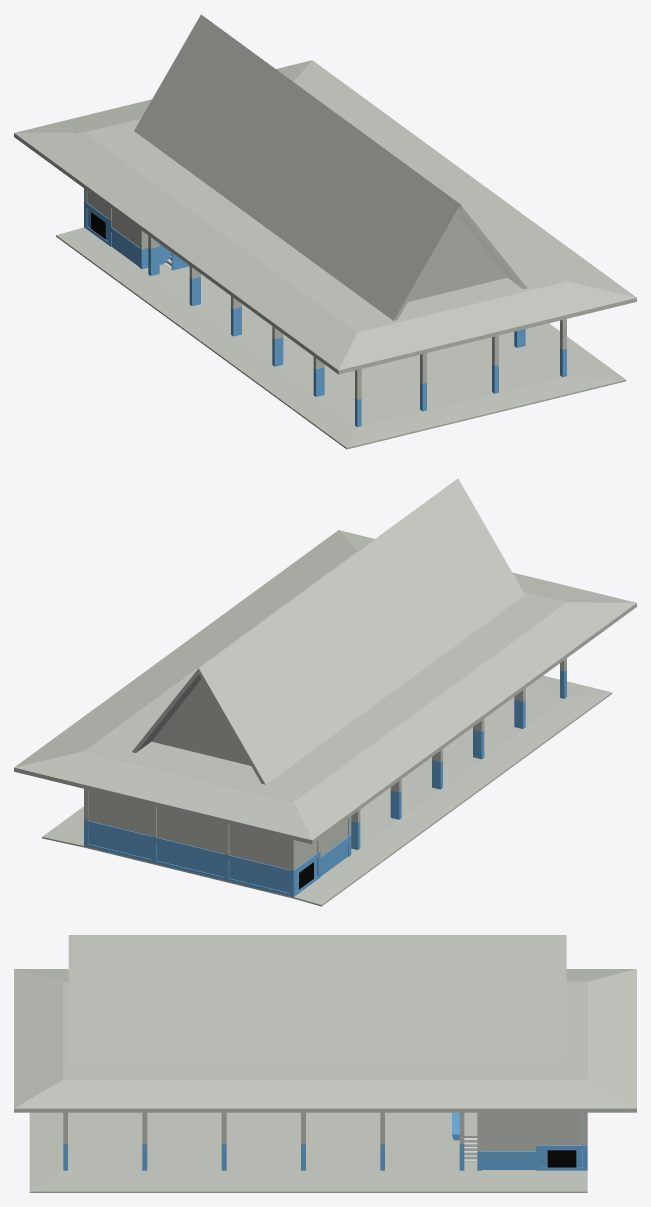
The model's file is SAMOSONE_Building.glb.
3 views of the same model, one above another, from view 1: azimuth 30°, elevation 25°; view 2: azimuth 150°, elevation 25°; view 3: azimuth 270°, elevation 25° (orthographic). The views are drawn at different scales.
Visible parts, largest first — view 1: Plane.002, Cube.004, Cube.003, Pilla.004, wall; view 2: Plane.002, Cube.004, Cube.003, wall, Pilla.004; view 3: Cube.004, Plane.002, Cube.003, wall, Pilla.004.
Part boxes in pixels (<box>): Plane.002: <box>14,60,636,374</box>; Cube.004: <box>134,14,527,320</box>; Cube.003: <box>56,227,626,449</box>; Pilla.004: <box>84,188,566,427</box>; wall: <box>87,191,171,266</box>; Plane.002: <box>14,530,636,844</box>; Cube.004: <box>132,478,524,784</box>; Cube.003: <box>42,675,612,906</box>; wall: <box>89,790,347,892</box>; Pilla.004: <box>84,658,566,896</box>; Cube.004: <box>68,935,566,1062</box>; Plane.002: <box>14,969,636,1112</box>; Cube.003: <box>29,1112,587,1192</box>; wall: <box>464,1112,582,1169</box>; Pilla.004: <box>63,1112,587,1170</box>.
Bounding box in the file's own units: 20.65 × 13.07 × 38.9.
